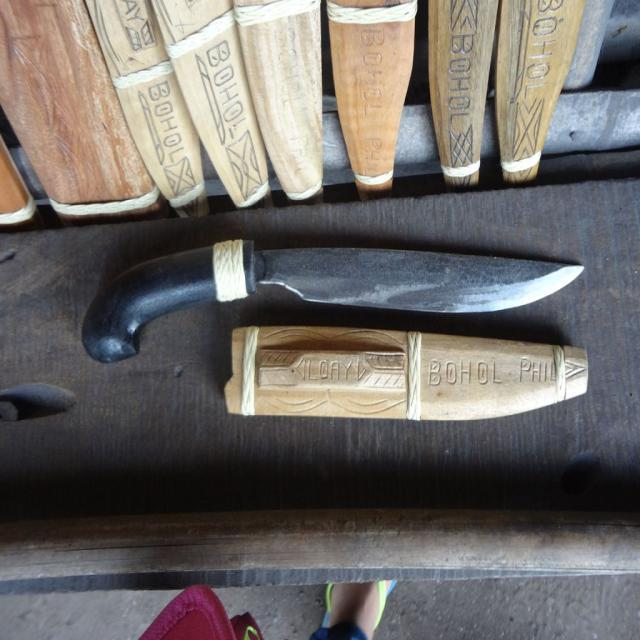Knife: (81, 240, 585, 364)
